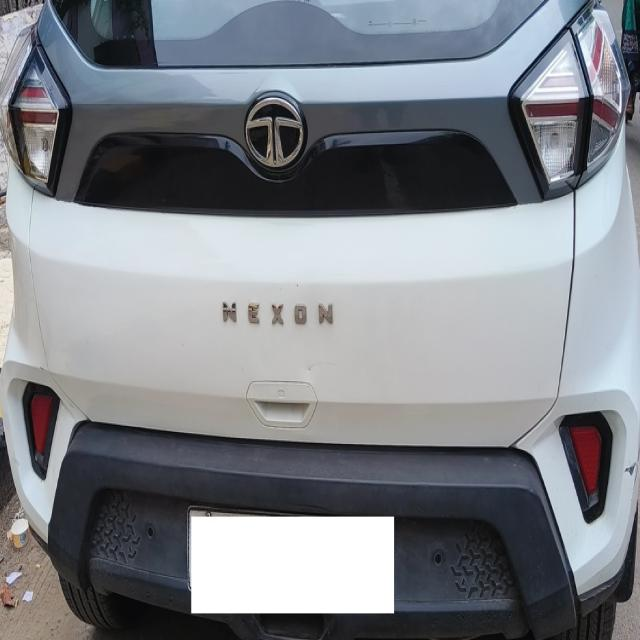scratch: (621, 452, 639, 487)
